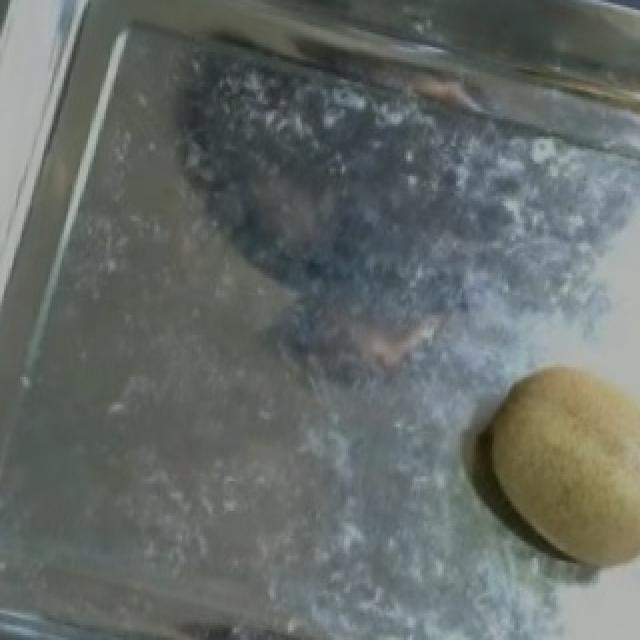Fruit: (466, 337, 640, 588)
